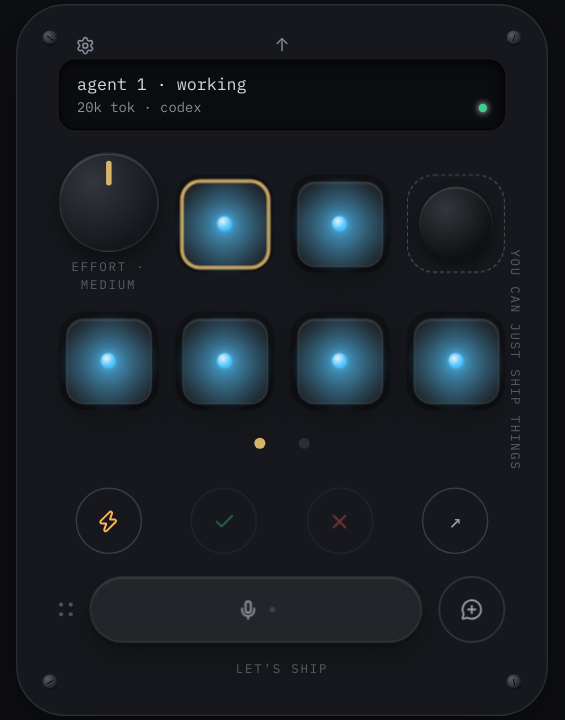
Test: MicroDeck › a horizontal plate swipe pages through agents, even across keys
Press the mouse on the button named "agent 1" at (224, 224), box [182,181,267,266]
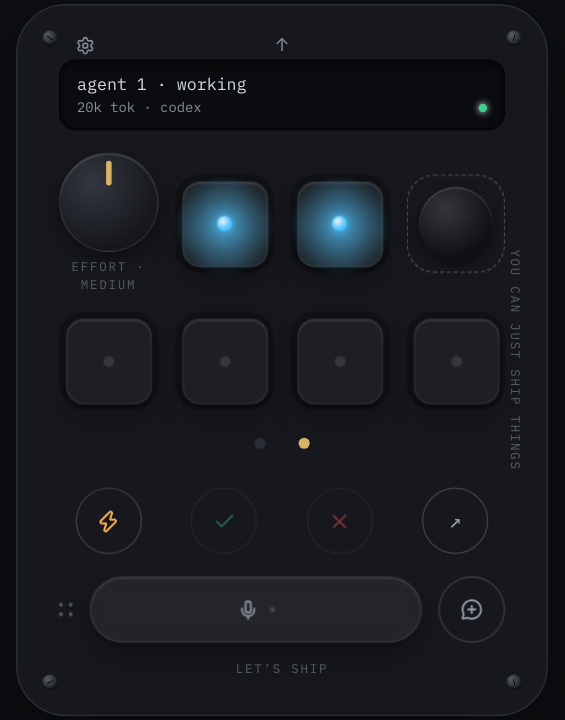
Result: the button named "agent 7" is shown at [182,181,267,266]
Press the mouse on the element with class "micro-plate" at (282, 360), box [31,20,533,700]
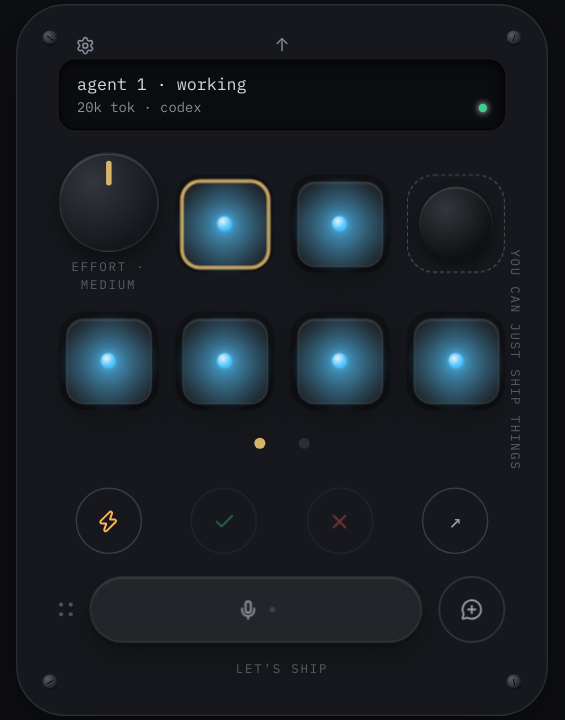
Result: the button named "agent 1" is shown at [182,181,267,266]
